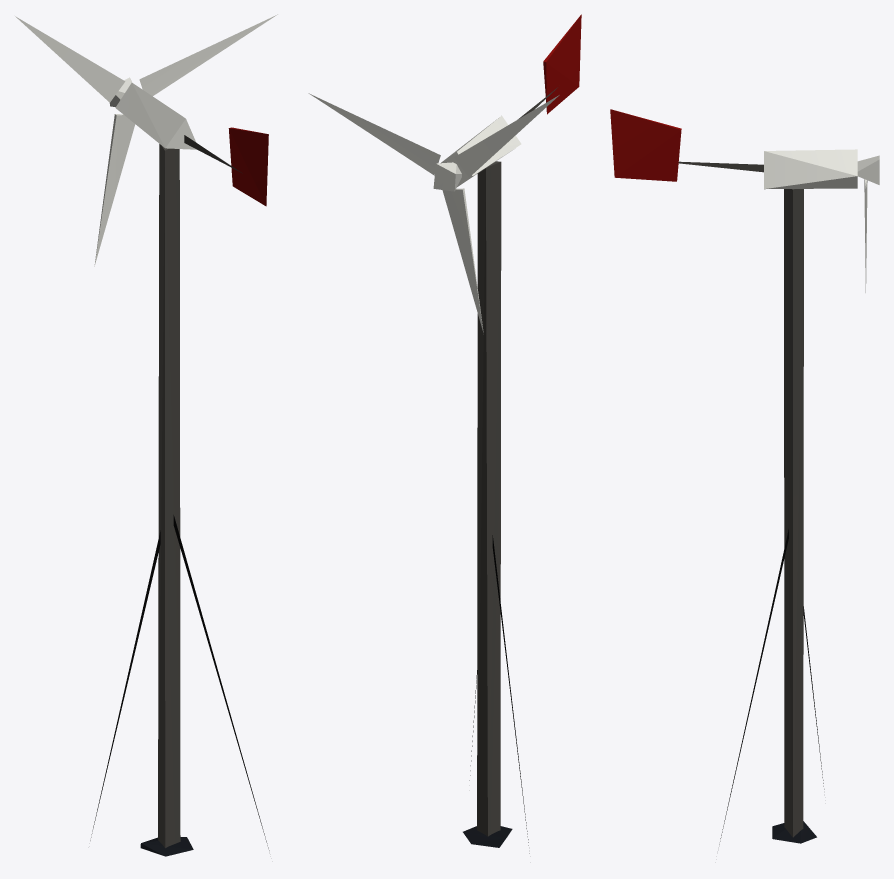
The model's file is tb_upg_deck_turbine.three-web-toon.lod25.glb.
3 renders of one model, left to right at view 1: azimuth 30°, elevation 25°; view 2: azimuth 150°, elevation 25°; view 3: azimuth 270°, elevation 25°, orthographic. The views are drawn at different scales.
Visible parts, largest first — view 1: tb_upg_deck_turbine_mesh_lod, deck_turbine_rotor_mesh_lod; view 2: tb_upg_deck_turbine_mesh_lod, deck_turbine_rotor_mesh_lod; view 3: tb_upg_deck_turbine_mesh_lod, deck_turbine_rotor_mesh_lod.
Boxes of the visible parts, <box> form: tb_upg_deck_turbine_mesh_lod: <box>90,83,269,856</box>; deck_turbine_rotor_mesh_lod: <box>15,14,277,266</box>; tb_upg_deck_turbine_mesh_lod: <box>440,14,581,853</box>; deck_turbine_rotor_mesh_lod: <box>308,93,559,334</box>; tb_upg_deck_turbine_mesh_lod: <box>610,109,857,844</box>; deck_turbine_rotor_mesh_lod: <box>857,155,879,292</box>.
Bounding box in the file's own units: 1.27 × 3.82 × 1.21.
